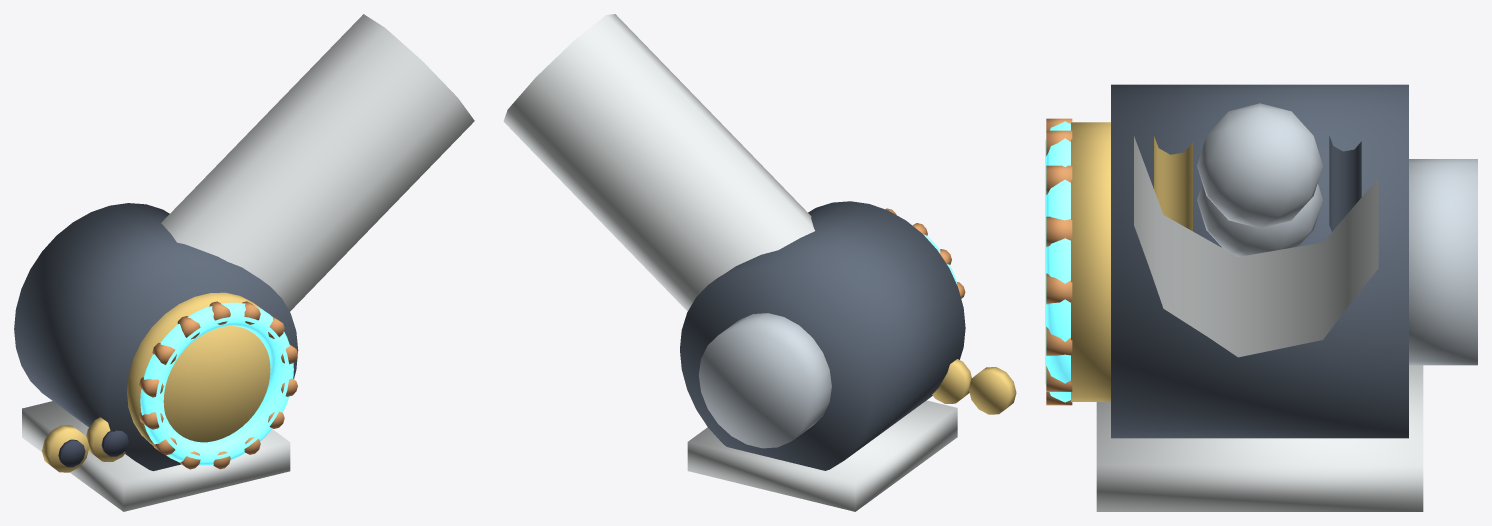
Rendered from 09_L86_RobotJoint2Shoulder.glb.
3 renders of one model, left to right at view 1: azimuth 30°, elevation 25°; view 2: azimuth 150°, elevation 25°; view 3: azimuth 270°, elevation 25°, orthographic. The views are drawn at different scales.
Visible parts, largest first — view 1: L86_RobotJoint2Shoulder_Part_0005, L86_RobotJoint2Shoulder_Part_0000, L86_RobotJoint2Shoulder_Part_0001, L86_RobotJoint2Shoulder_Part_0002, L86_RobotJoint2Shoulder_Part_0004, L86_RobotJoint2Shoulder_Part_0006, L86_RobotJoint2Shoulder_Part_0008, L86_RobotJoint2Shoulder_Part_0007, L86_RobotJoint2Shoulder_Part_0009; view 2: L86_RobotJoint2Shoulder_Part_0005, L86_RobotJoint2Shoulder_Part_0000, L86_RobotJoint2Shoulder_Part_0003, L86_RobotJoint2Shoulder_Part_0006, L86_RobotJoint2Shoulder_Part_0008; view 3: L86_RobotJoint2Shoulder_Part_0000, L86_RobotJoint2Shoulder_Part_0005, L86_RobotJoint2Shoulder_Part_0003, L86_RobotJoint2Shoulder_Part_0001, L86_RobotJoint2Shoulder_Part_0002, L86_RobotJoint2Shoulder_Part_0004.
Part boxes in pixels (x1,y1,x2,y2): L86_RobotJoint2Shoulder_Part_0005: (22,14,474,511); L86_RobotJoint2Shoulder_Part_0000: (14,203,298,471); L86_RobotJoint2Shoulder_Part_0001: (127,292,270,445); L86_RobotJoint2Shoulder_Part_0002: (140,302,293,465); L86_RobotJoint2Shoulder_Part_0004: (139,301,297,469); L86_RobotJoint2Shoulder_Part_0006: (42,425,89,472); L86_RobotJoint2Shoulder_Part_0008: (86,417,125,461); L86_RobotJoint2Shoulder_Part_0007: (58,439,85,467); L86_RobotJoint2Shoulder_Part_0009: (101,430,128,456); L86_RobotJoint2Shoulder_Part_0005: (503,14,957,511); L86_RobotJoint2Shoulder_Part_0000: (680,201,965,470); L86_RobotJoint2Shoulder_Part_0003: (698,313,831,448); L86_RobotJoint2Shoulder_Part_0006: (968,367,1016,414); L86_RobotJoint2Shoulder_Part_0008: (932,359,971,403); L86_RobotJoint2Shoulder_Part_0000: (1111,84,1408,438); L86_RobotJoint2Shoulder_Part_0005: (1096,136,1423,511); L86_RobotJoint2Shoulder_Part_0003: (1197,103,1477,365); L86_RobotJoint2Shoulder_Part_0001: (1071,122,1192,401); L86_RobotJoint2Shoulder_Part_0002: (1045,121,1070,402); L86_RobotJoint2Shoulder_Part_0004: (1046,118,1072,405).
Size of the model in its own units: 1.47 by 1.17 by 0.755.
